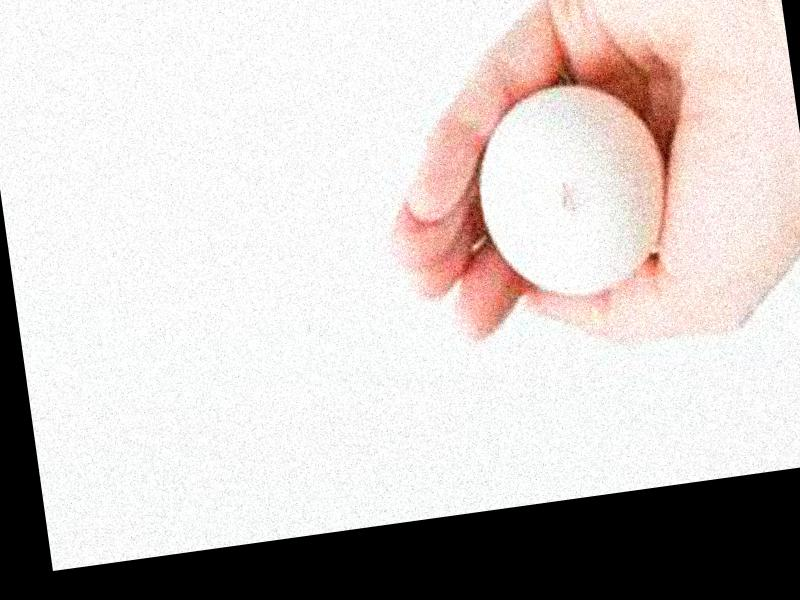Eggs: (467, 77, 675, 300)
